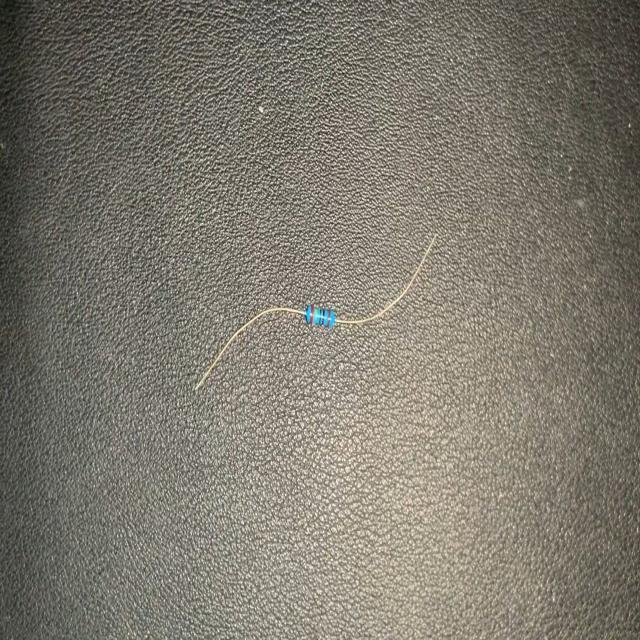resistor: (188, 214, 446, 402)
